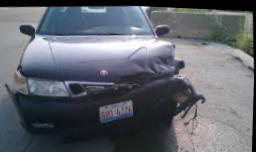Bonnet: (141, 36, 177, 80)
Bumper: (6, 74, 203, 137)
Light: (150, 65, 180, 91)
